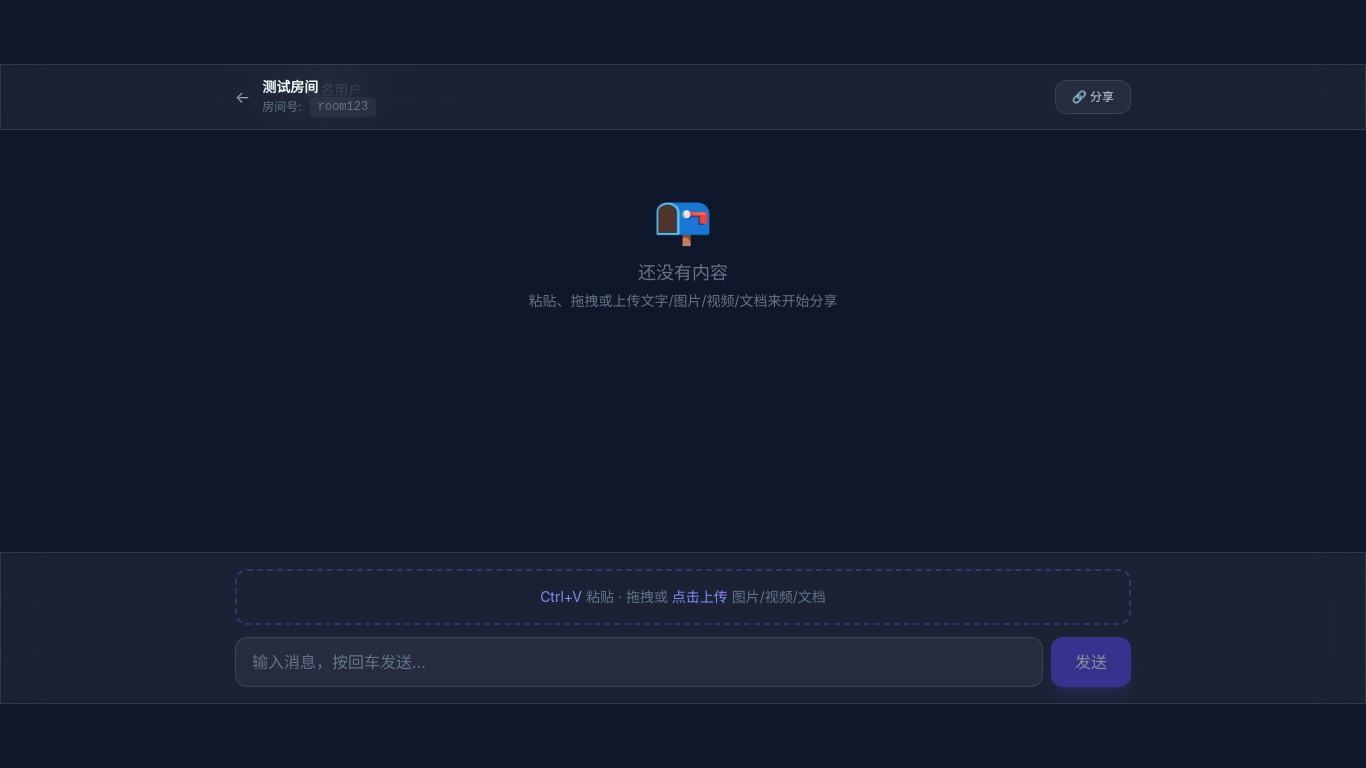
Room Page — Send Text Message › sends via button click and clears input
Check: the text "还没有内容" is shown, box [638,262,728,283]
Type "Button send" into the field with placeholder "输入消息，按回车发送..." at (639, 662), box [235,637,1043,687]
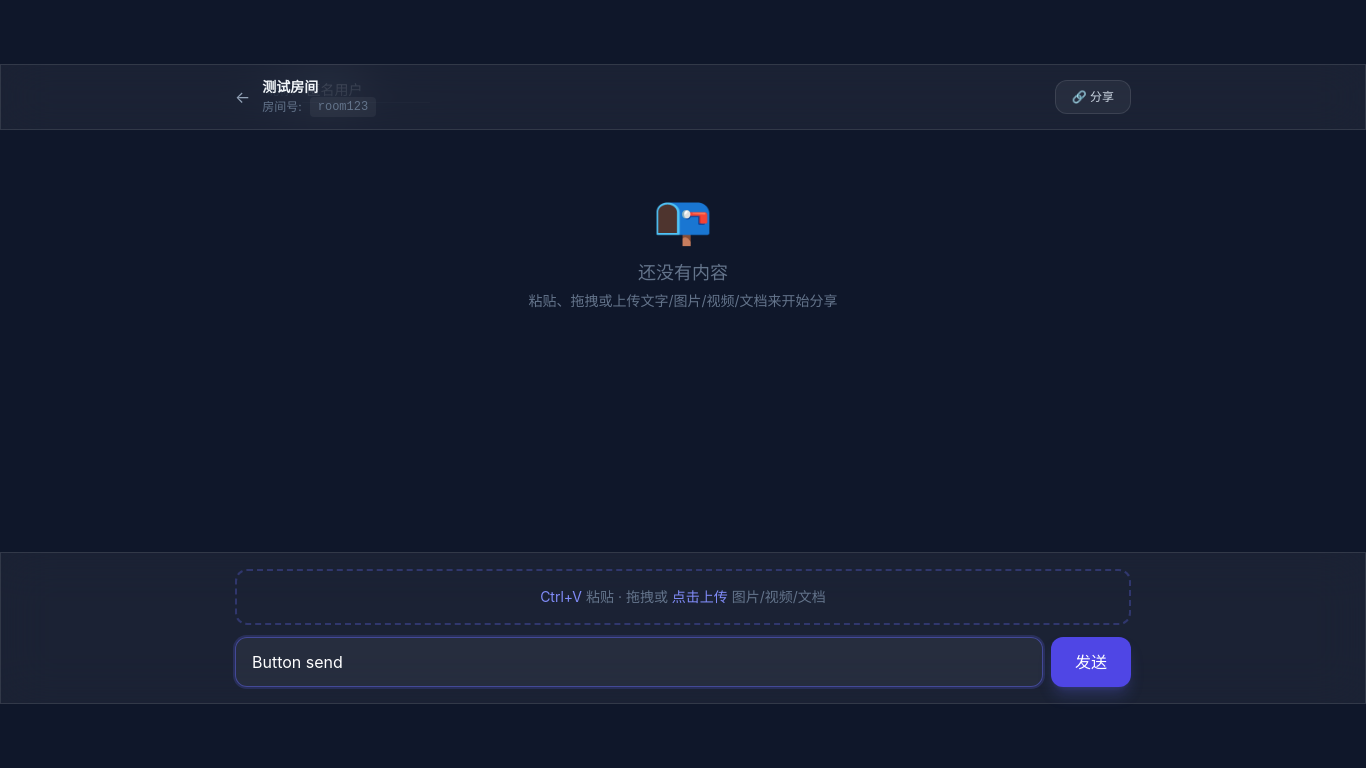
Click the button "发送" at (1091, 662), box [1051,637,1131,687]
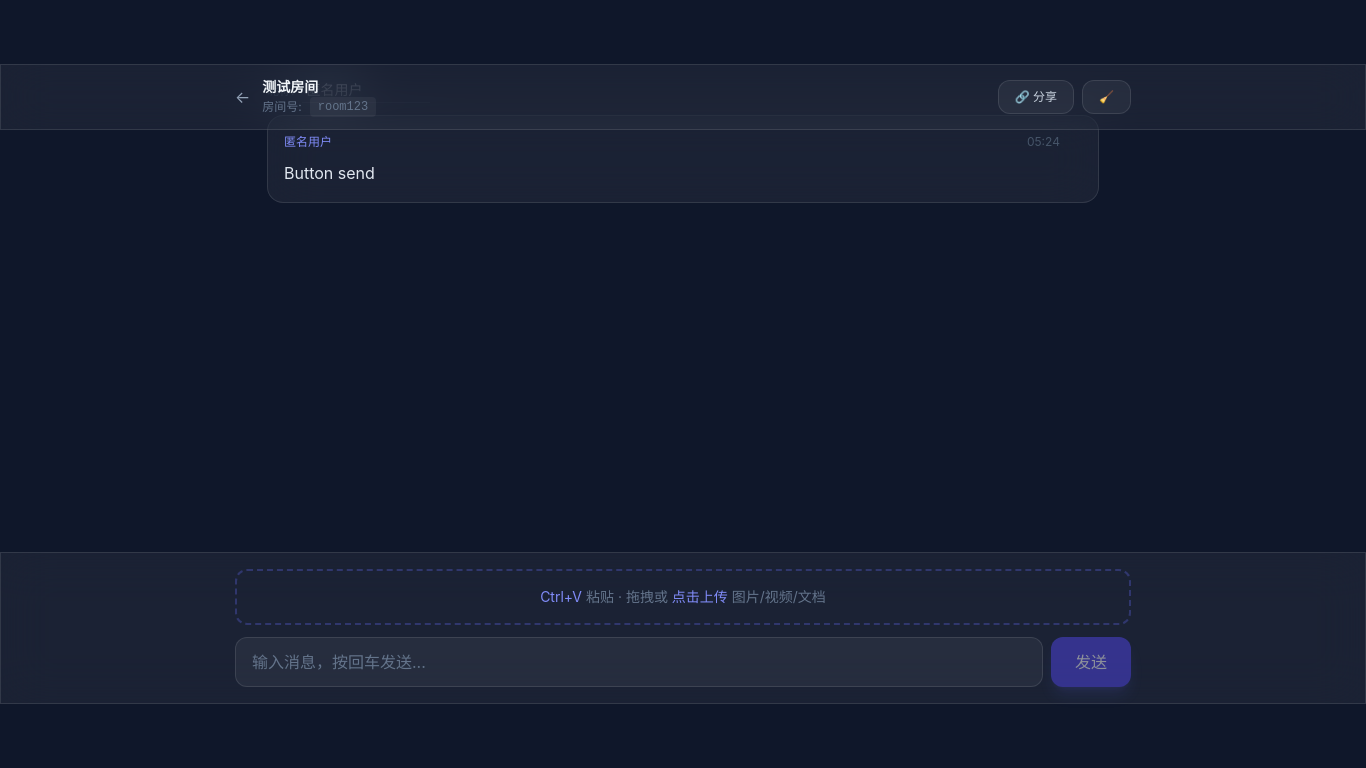
Check: the text "Button send" is shown, box [284,163,375,183]
Check: the field with placeholder "输入消息，按回车发送..." is empty, box [235,637,1043,687]
